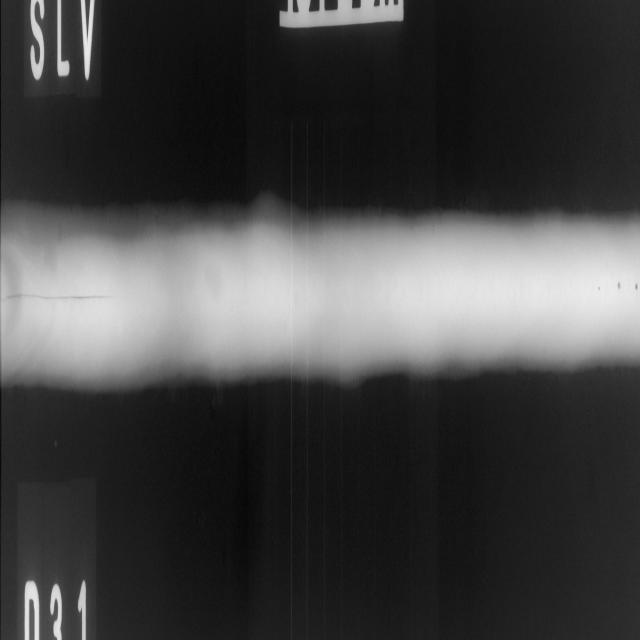FP: (1, 258, 116, 320)
PO: (582, 252, 638, 314)
